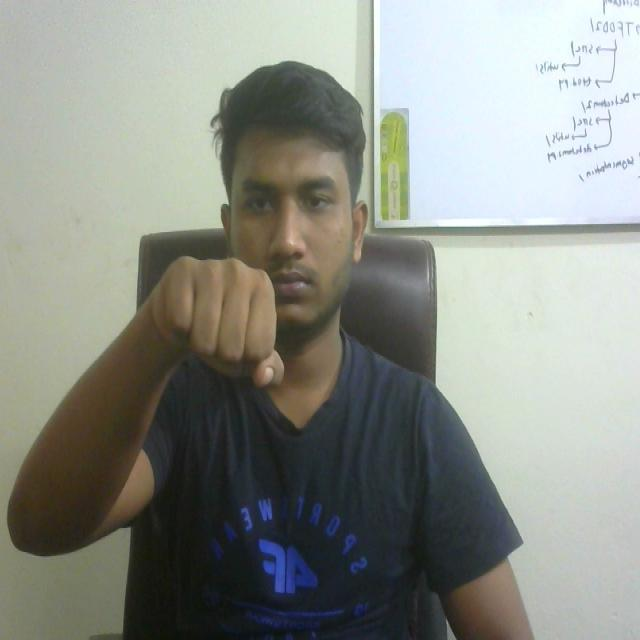I: (140, 248, 307, 396)
